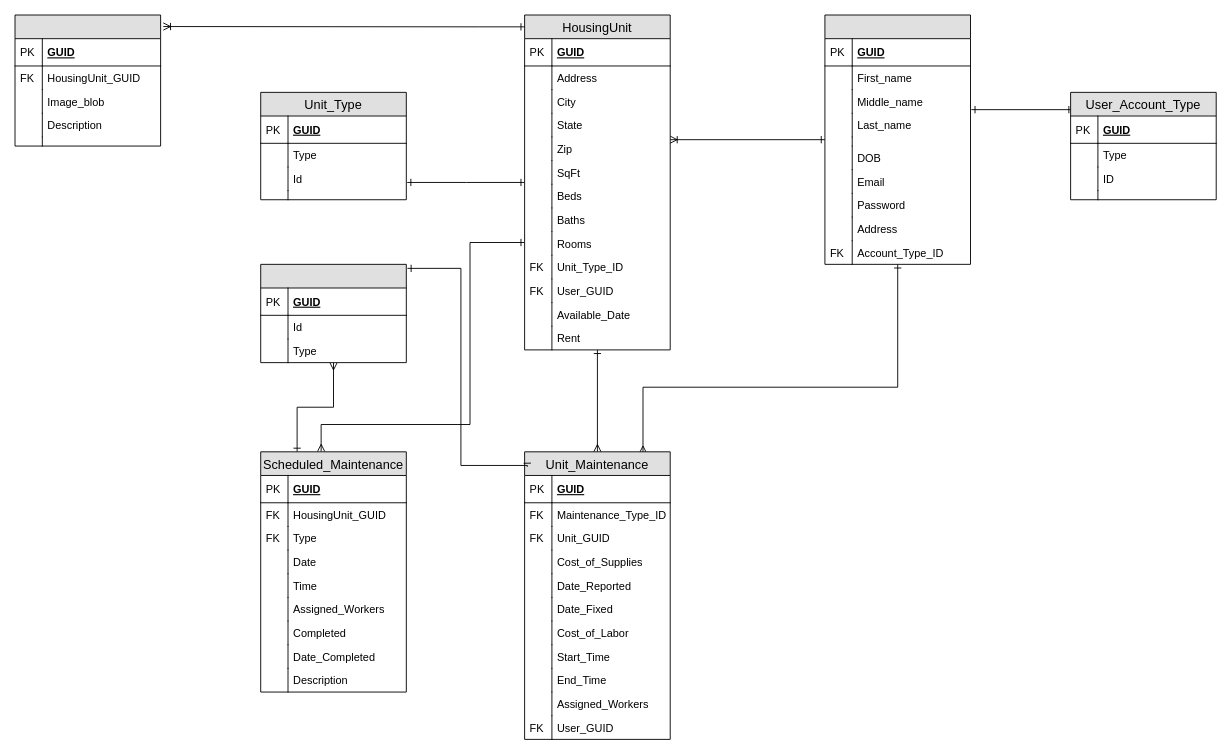
Image size: 1231x754. Some labels were removed from this diagram. Here are the shapes that lost their labels. From the top down, the box of each, then its label:
(14, 14, 161, 146): HousingPhotos
(824, 14, 971, 264): User
(260, 263, 406, 363): Maintenance_Type
